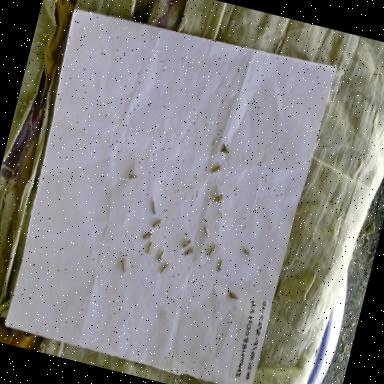pbw: (209, 160, 223, 179), (216, 140, 232, 156), (117, 255, 129, 274), (150, 214, 163, 231), (214, 258, 225, 276), (149, 198, 160, 216), (158, 260, 170, 276), (200, 224, 212, 240), (156, 246, 166, 264), (207, 242, 218, 258), (181, 234, 192, 250), (212, 191, 224, 204), (183, 246, 194, 260), (146, 240, 154, 256), (226, 290, 238, 300), (142, 231, 152, 242), (241, 246, 251, 256), (128, 171, 138, 181)
